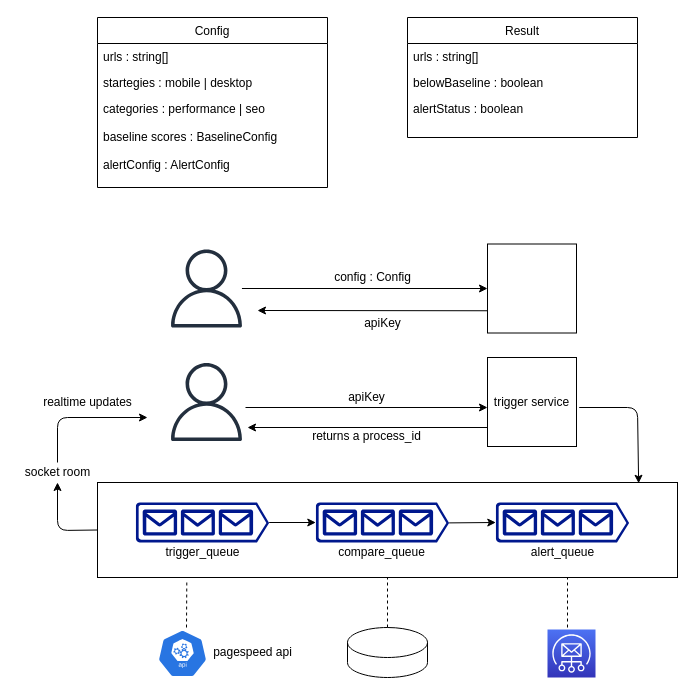
Some shapes in this 695 by 695 pixel diagram are drawn without their labels. Each missing label, with the box of its shape:
config service: (486, 243, 576, 333)
config store: (346, 626, 428, 678)
